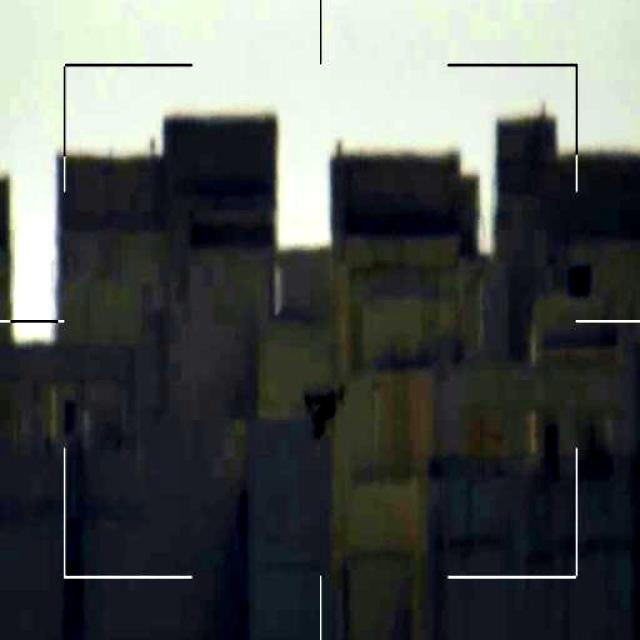bird: (301, 365, 352, 456)
